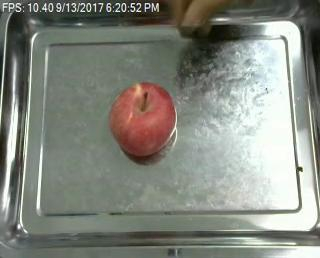apple: (109, 82, 177, 157)
